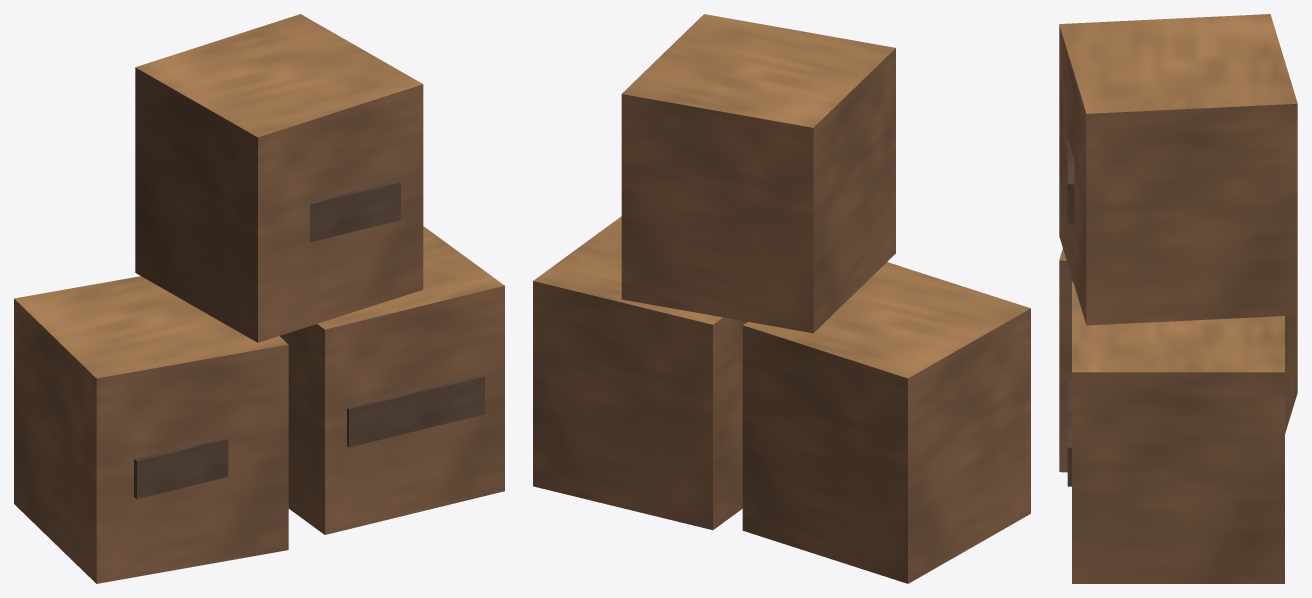
File: crates_stack_3.fbx
3 views of the same model, side by side, from view 1: azimuth 30°, elevation 25°; view 2: azimuth 150°, elevation 25°; view 3: azimuth 270°, elevation 25° (orthographic). The views are drawn at different scales.
Visible parts, largest first — view 1: crates_stack_3; view 2: crates_stack_3; view 3: crates_stack_3.
Boxes of the visible parts, x1=… form: crates_stack_3: x1=14, y1=14, x2=504, y2=583; crates_stack_3: x1=533, y1=14, x2=1030, y2=583; crates_stack_3: x1=1059, y1=14, x2=1297, y2=583.
Size of the model in its own units: 200 by 200 by 100.
Materials: 1 (1 with a texture image).
